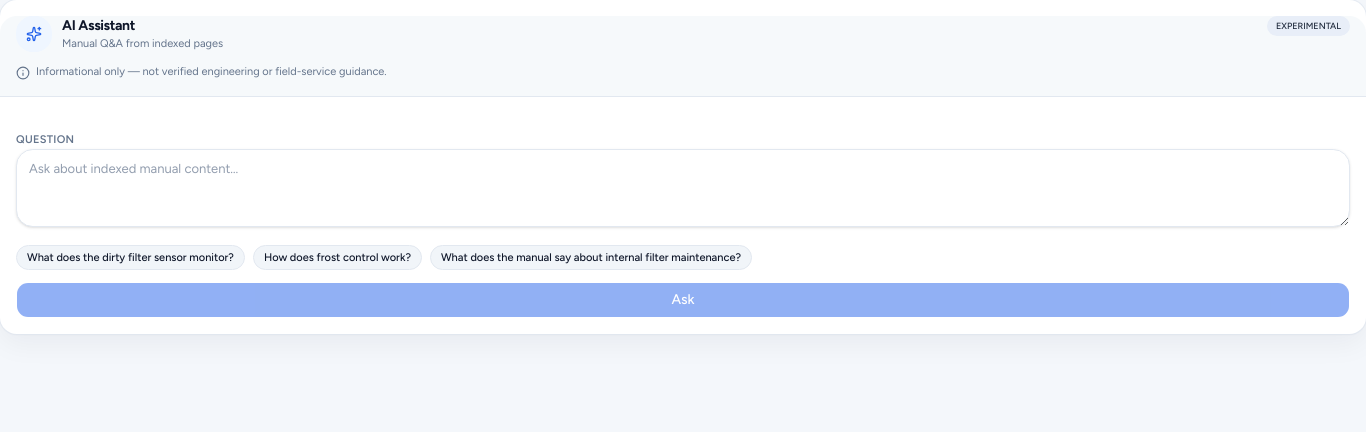
Test case: AiAssistantCard › shows network failure copy
Type "Network check" into the text box named "Assistant question" at (683, 188), box [16,149,1350,227]
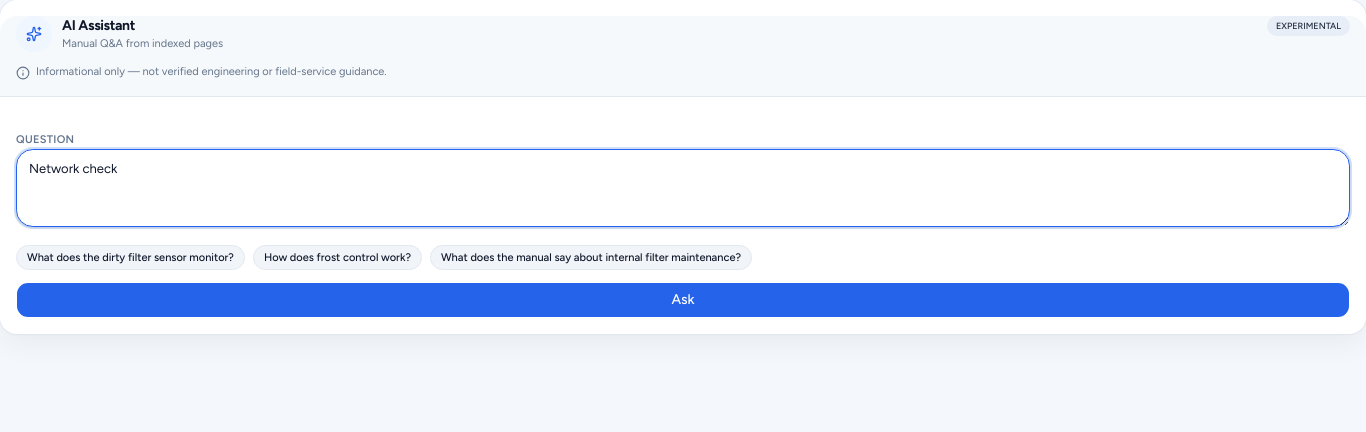
Click the button "Ask" at (683, 300), box [16,282,1350,318]
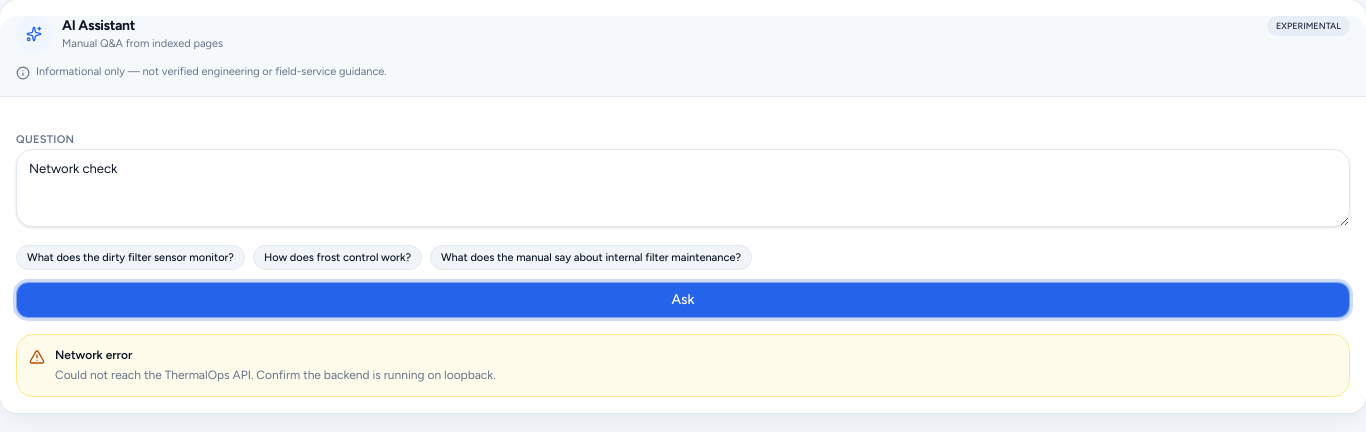
Check: the message with test id "assistant-error" shows "Network error", box [55,348,132,362]
